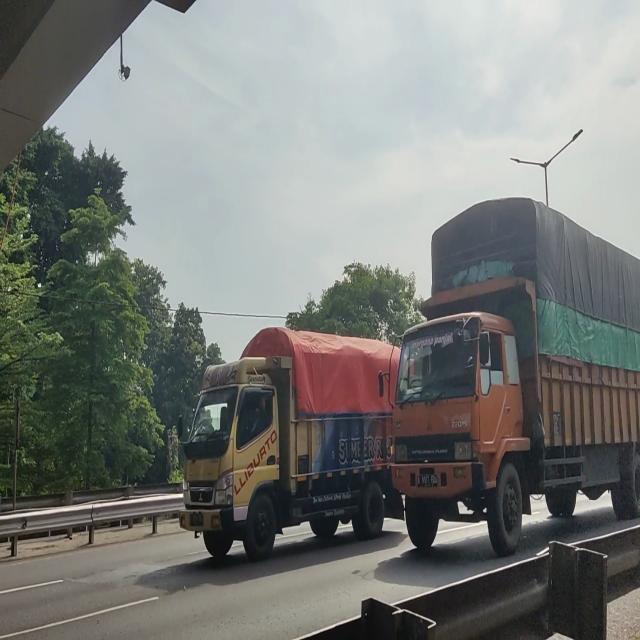Golongan II: (178, 328, 400, 560)
